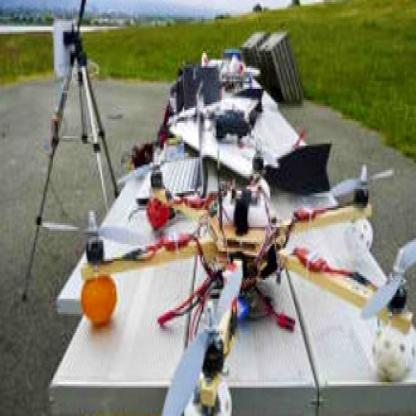drone: (46, 162, 416, 408)
